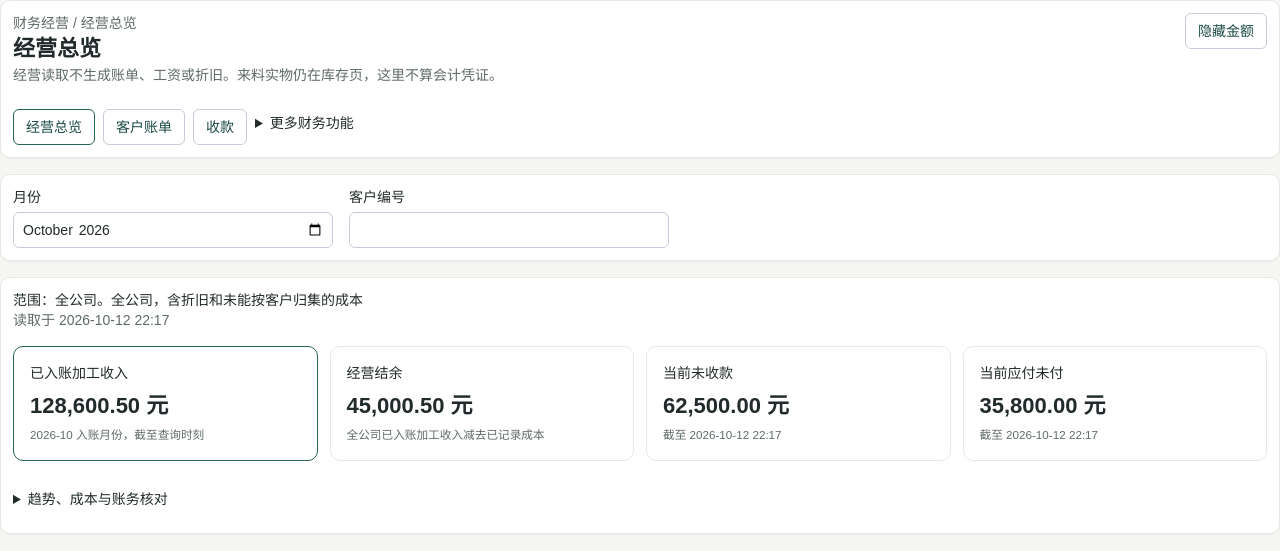
Test: FinanceWorkspace › 没有账单时显示空表说明
This screenshot has width=1280, height=551.
Step 1. Click the button "客户账单" → {"x": 144, "y": 128}, box [103,110,185,146]
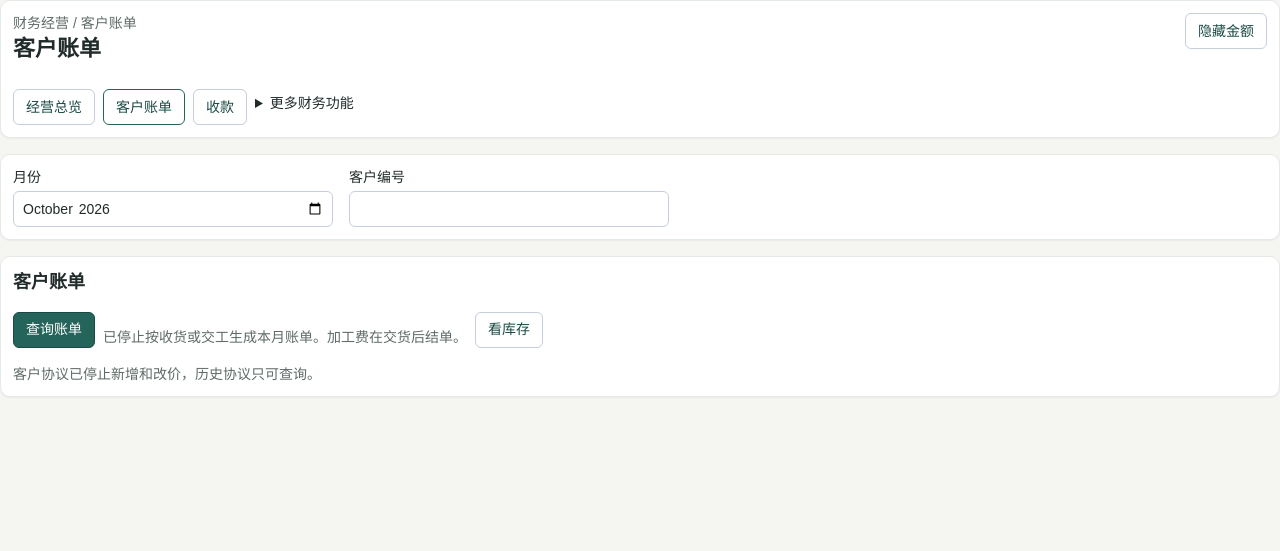
Step 2. Type "1001" into the field named "客户编号" → {"x": 509, "y": 210}, box [349,192,669,228]
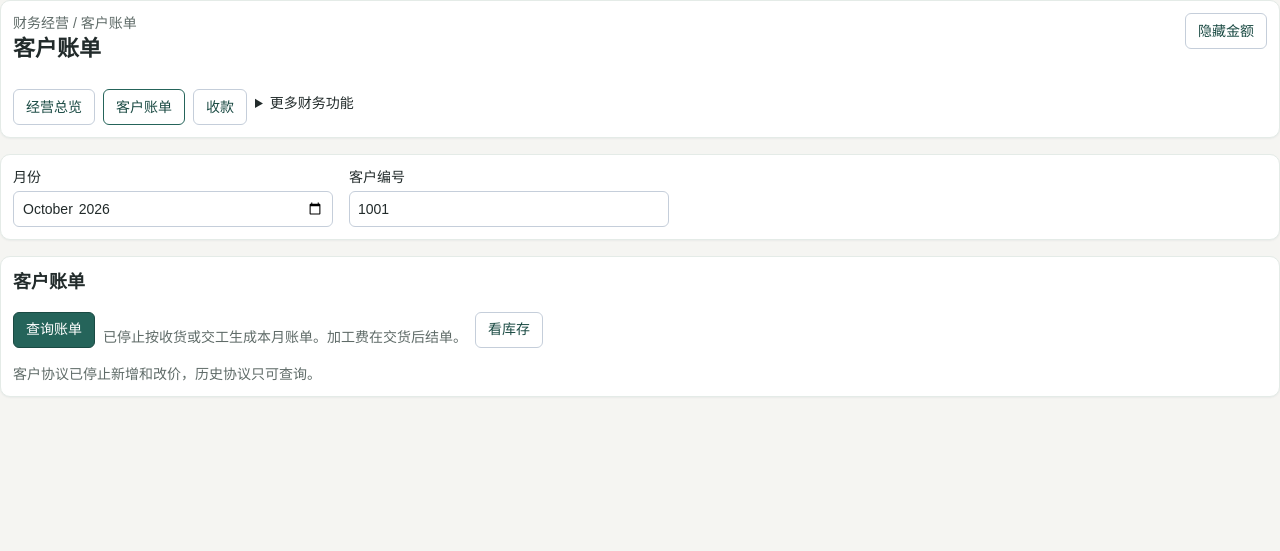
Step 3. Click the button "查询账单" → {"x": 54, "y": 330}, box [13,312,95,348]
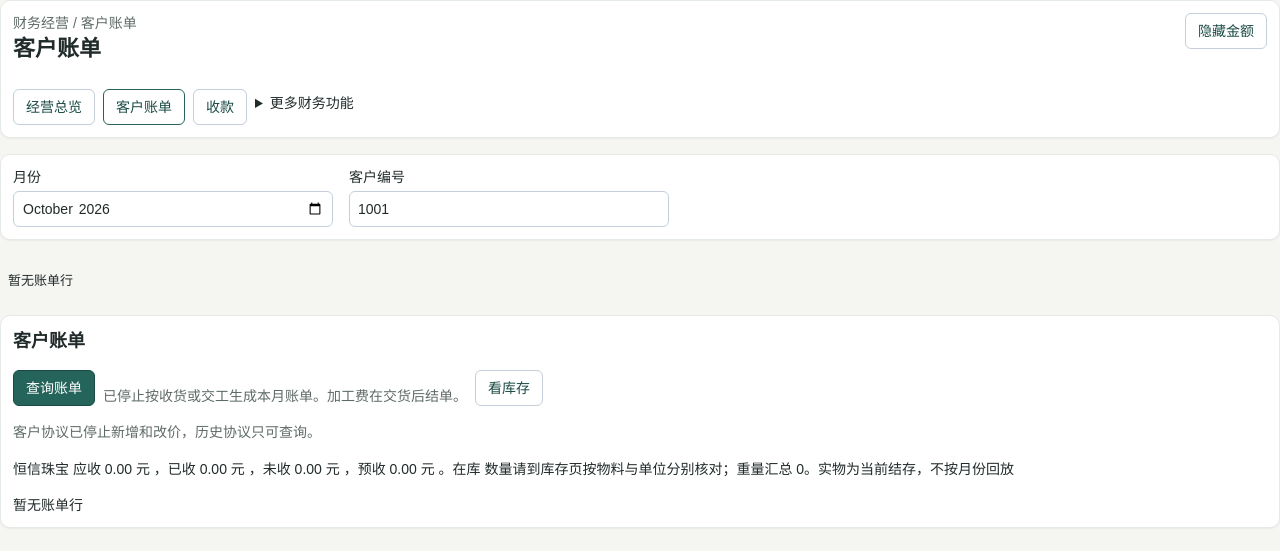
Expected: the text "暂无账单行" is shown, [8,274,73,288]
Expected: the text "恒信珠宝" is shown, [13,461,1014,477]
Expected: the text "实物为当前结存" is shown, [13,461,1014,477]
